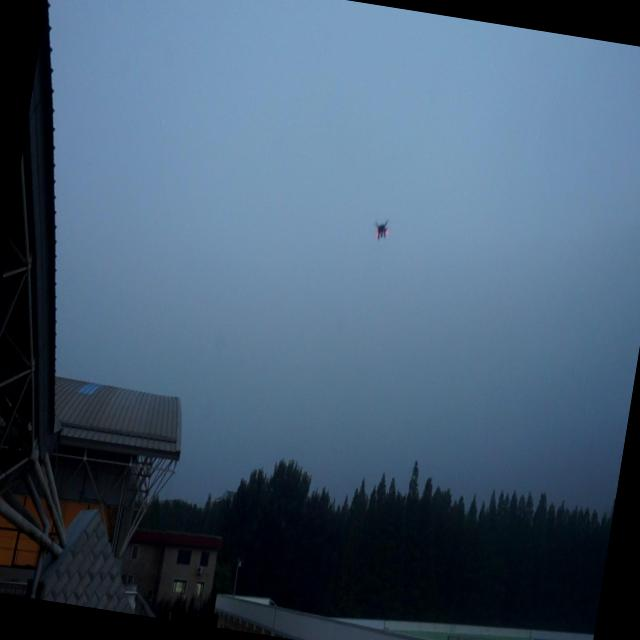drone: (368, 213, 396, 245)
